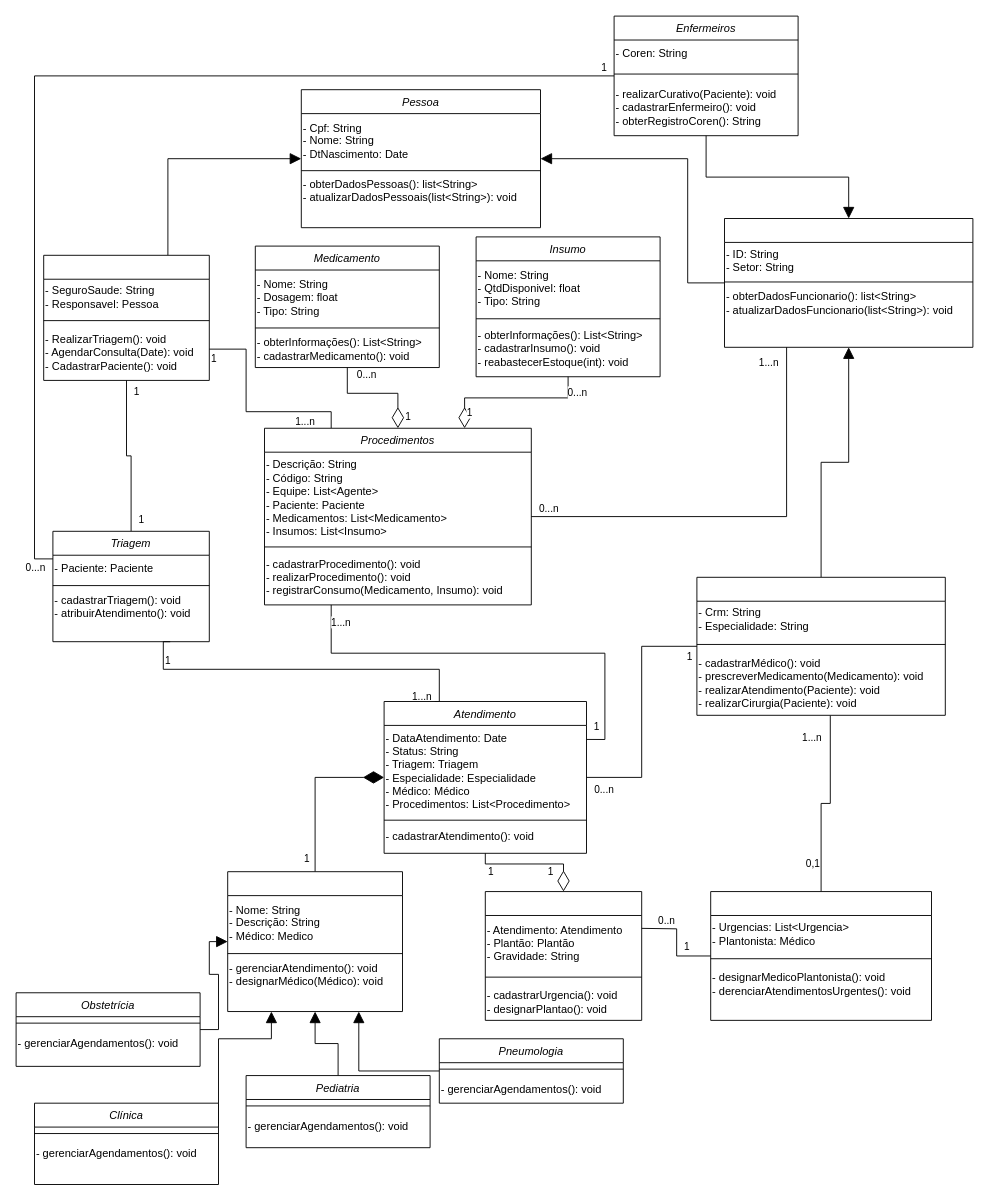
This 989x1201 diagram has some shape labels left out. Each missing label, with the box of its shape:
Agentes: (724, 218, 973, 347)
Especialidade: (227, 871, 402, 1012)
Médicos: (696, 576, 945, 715)
Pacientes: (43, 254, 209, 380)
Plantão: (710, 891, 932, 1020)
Urgência: (484, 891, 642, 1020)
